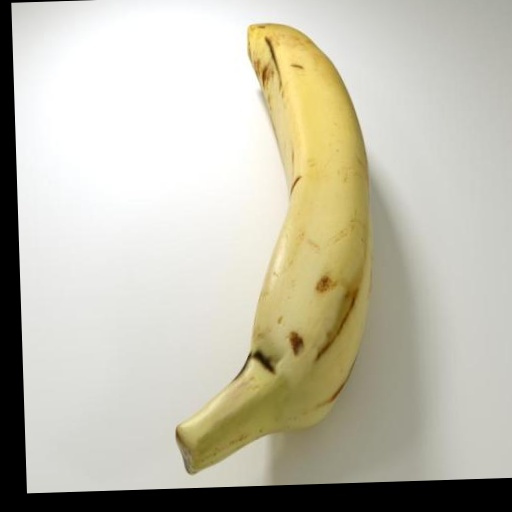fruit: (176, 24, 371, 473)
